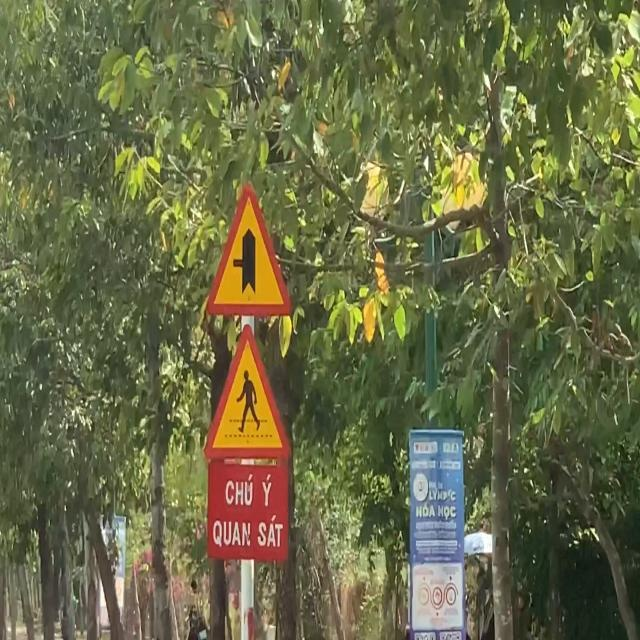bien_nguy_hiem: (204, 324, 294, 461), (205, 180, 295, 316)
